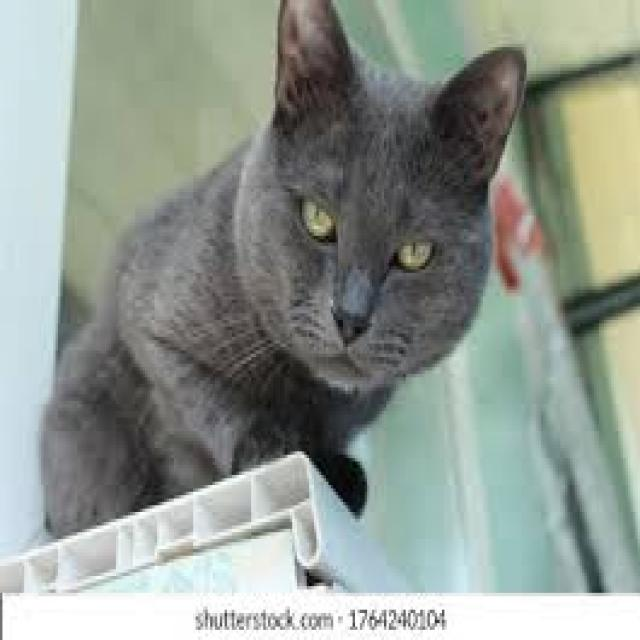Cat: (34, 1, 532, 548)
